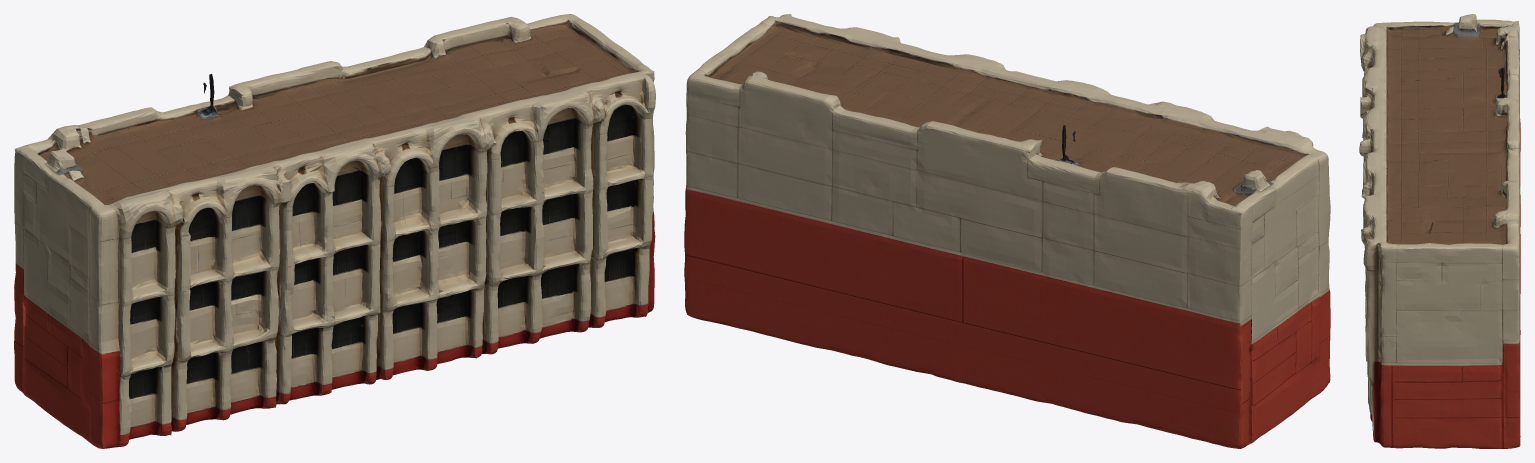
File: Boys_hostal_2.glb
The picture shows the model from 3 angles, left to right: view 1: azimuth 30°, elevation 25°; view 2: azimuth 150°, elevation 25°; view 3: azimuth 270°, elevation 25°; orthographic projection. The views are drawn at different scales.
Parts seen in each view (by area): view 1: tripo_node_20c3729b-1b71-48ce-b56f-7f67af057d8a; view 2: tripo_node_20c3729b-1b71-48ce-b56f-7f67af057d8a; view 3: tripo_node_20c3729b-1b71-48ce-b56f-7f67af057d8a.
Boxes of the visible parts, x1,y1,x2,y2 form: tripo_node_20c3729b-1b71-48ce-b56f-7f67af057d8a: [14, 14, 655, 448]; tripo_node_20c3729b-1b71-48ce-b56f-7f67af057d8a: [684, 14, 1330, 448]; tripo_node_20c3729b-1b71-48ce-b56f-7f67af057d8a: [1359, 14, 1520, 448].
Bounding box in the file's own units: 0.999 × 0.4669 × 0.2965.
1 material, 1 textured.
